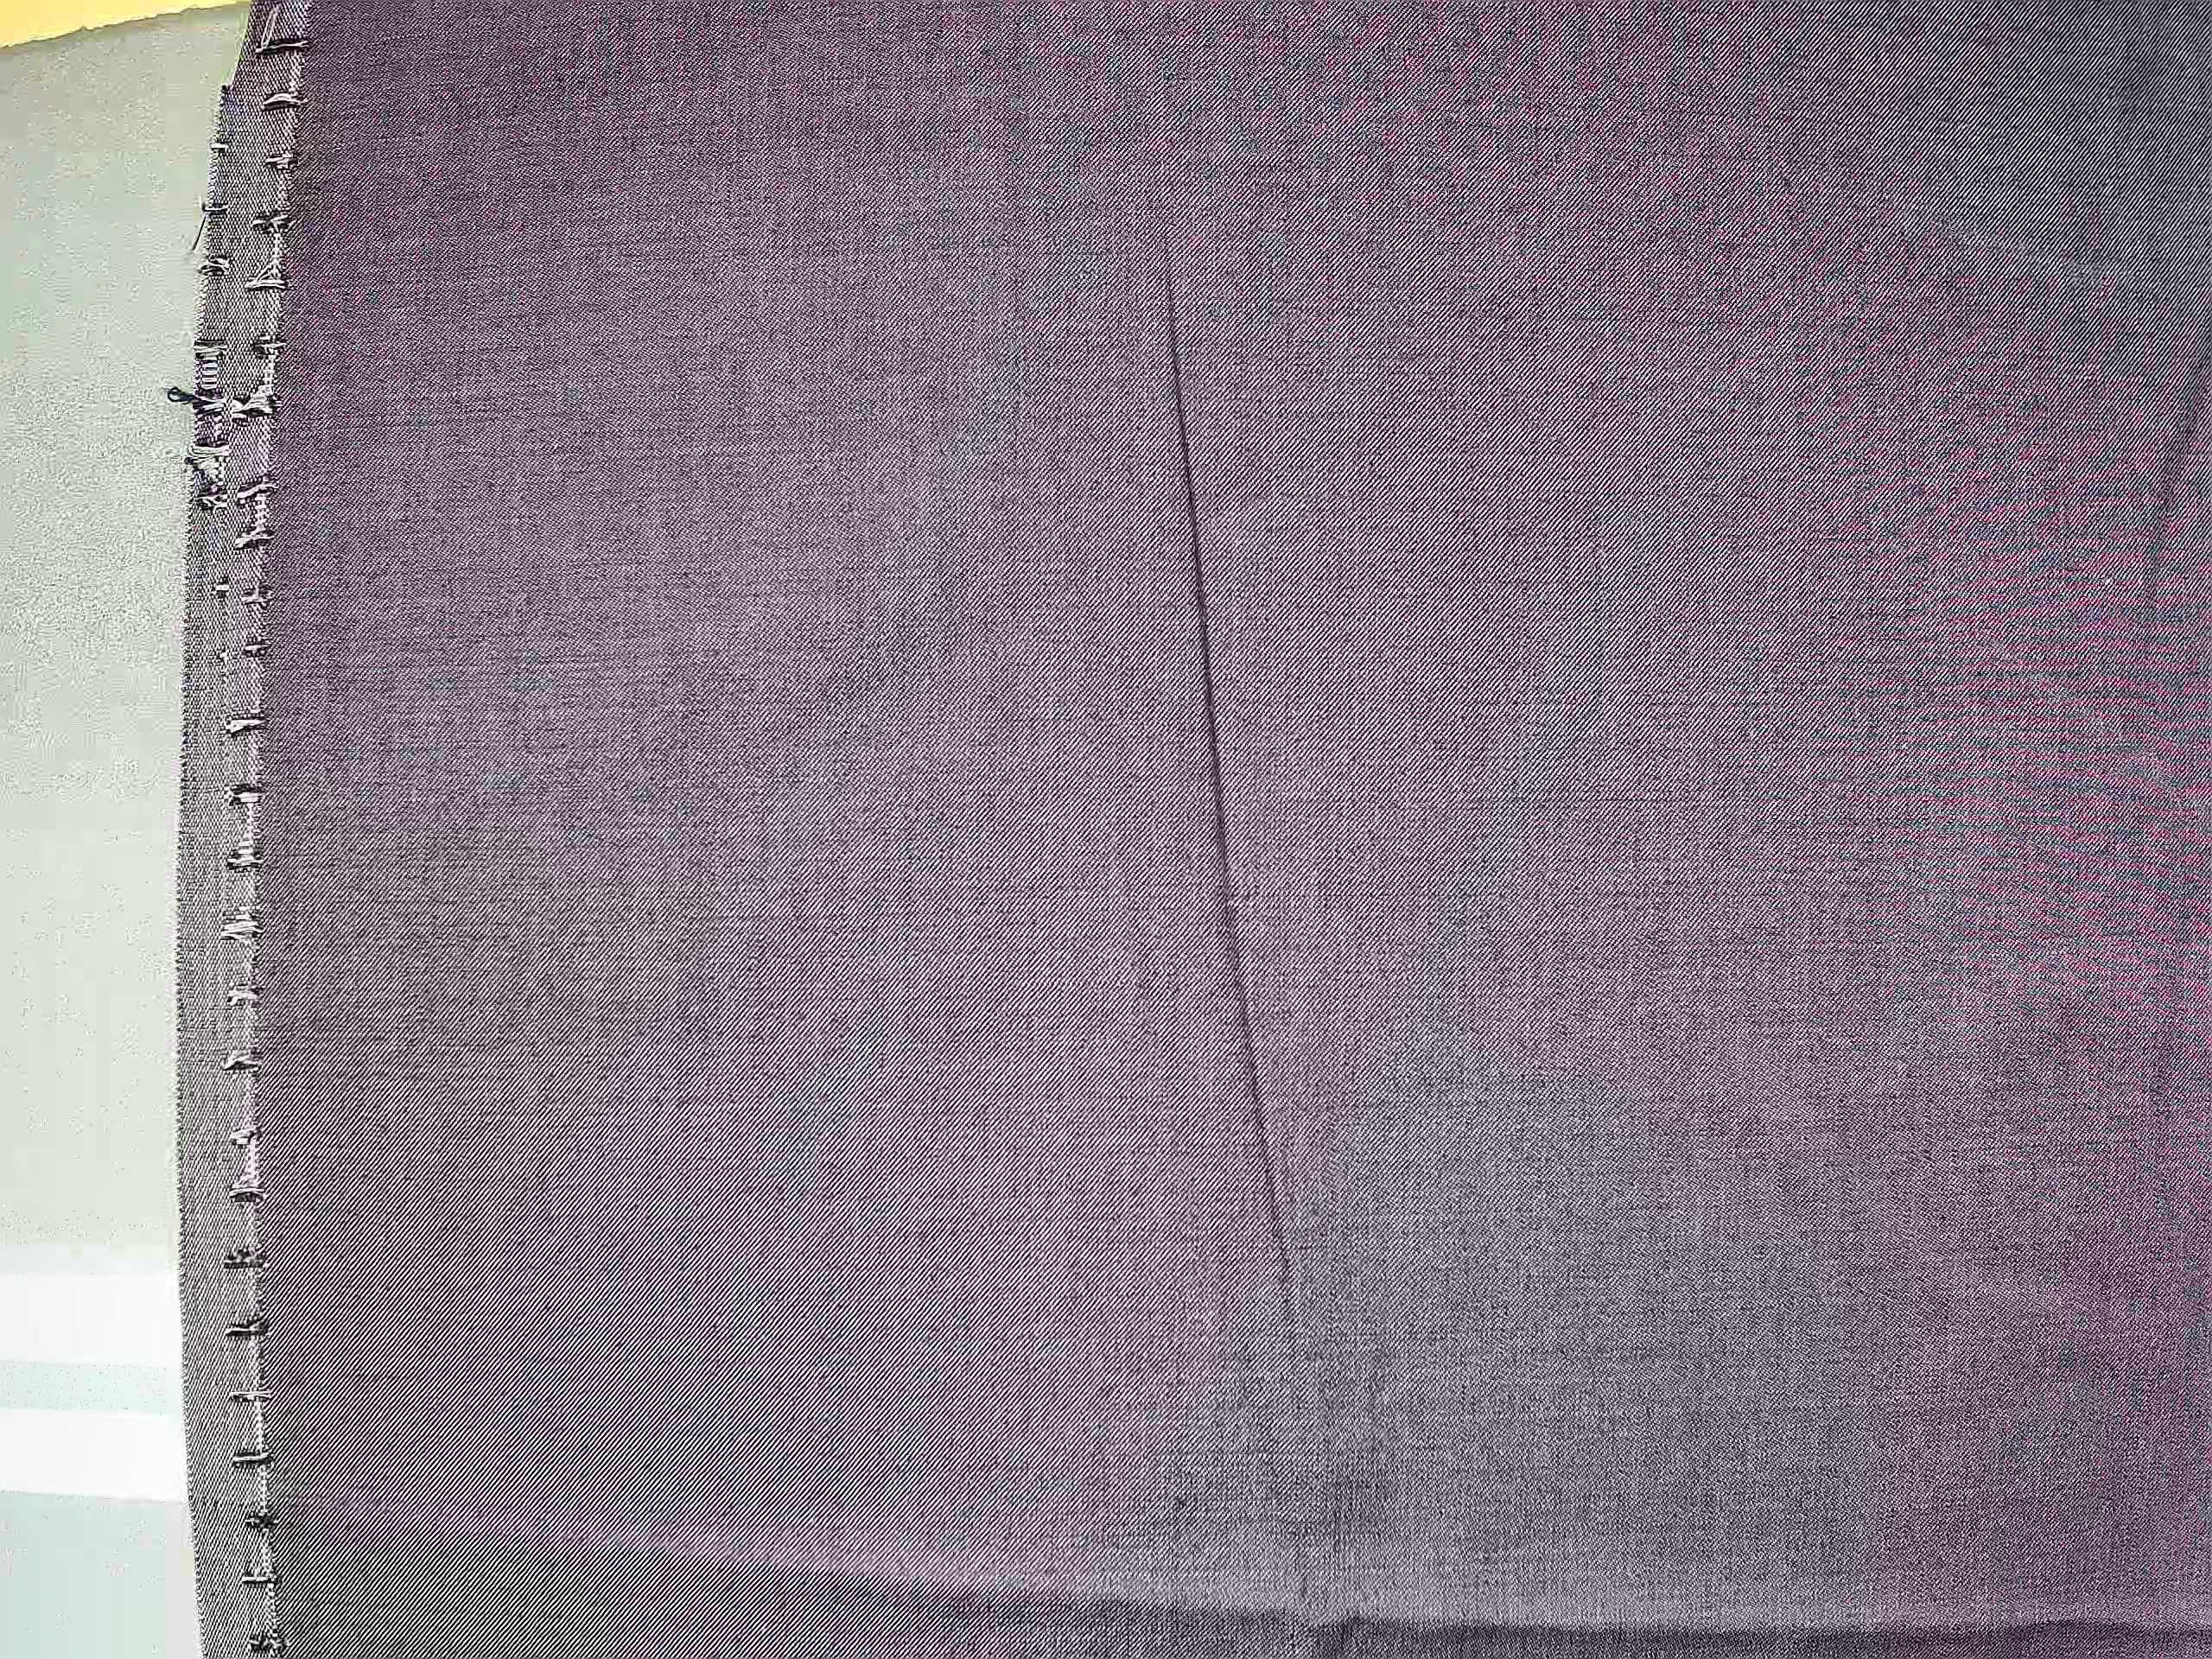puncture-hole: (221, 14, 319, 1654)
